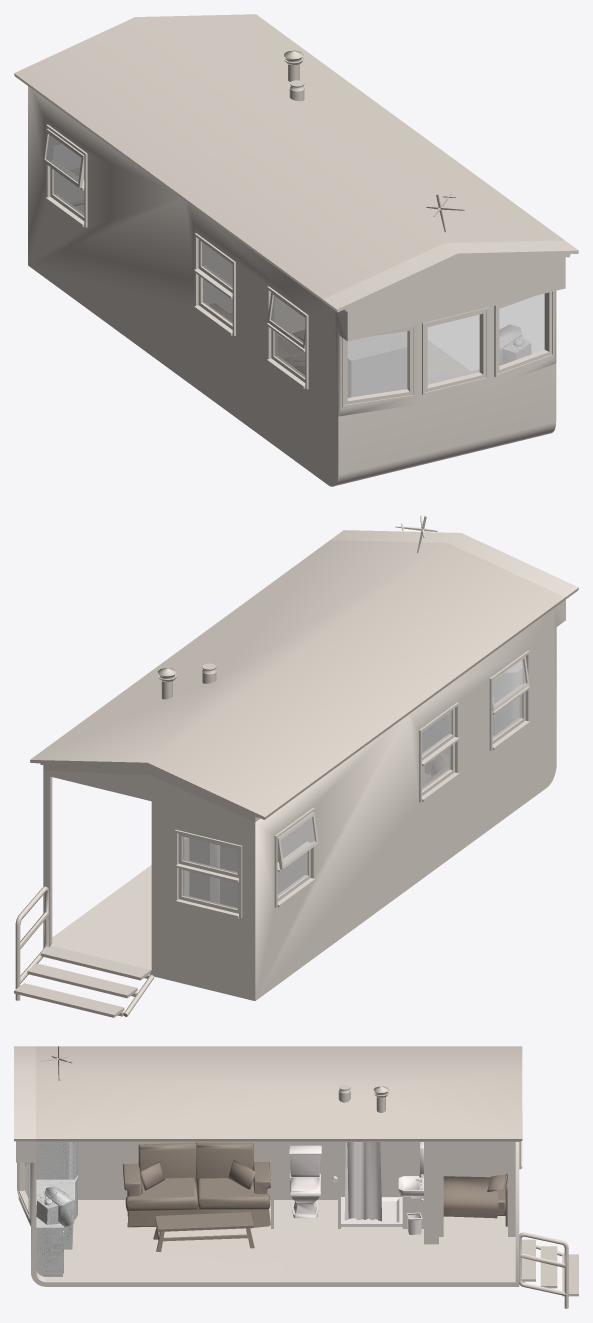
The model's file is Mobile Home.fbx.
3 views of the same model, one above another, from view 1: azimuth 30°, elevation 25°; view 2: azimuth 150°, elevation 25°; view 3: azimuth 270°, elevation 25° (orthographic). The views are drawn at different scales.
Visible parts, largest first — view 1: Clock1, Roof, Fridge1, Window1, Window0, Couch; view 2: Clock1, Roof, Step, Fridge1, Window1, Window0; view 3: Clock1, Roof, Couch, Fridge1, Step, ShowerCurtain, Stool, Toilet, Blanket, Shower, Sink.
Part boxes in pixels (x1,y1,x2,y2): Clock1: (28, 86, 578, 486); Roof: (14, 14, 564, 301); Fridge1: (348, 325, 531, 397); Window1: (42, 129, 84, 188); Window0: (267, 292, 305, 348); Couch: (209, 303, 304, 374); Clock1: (43, 530, 578, 1000); Roof: (30, 515, 565, 822); Step: (14, 886, 154, 1017); Fridge1: (422, 660, 522, 753); Window1: (277, 812, 318, 869); Window0: (492, 656, 529, 711); Clock1: (14, 1046, 522, 1286); Roof: (36, 1046, 522, 1141); Couch: (123, 1142, 270, 1227); Fridge1: (36, 1142, 77, 1276); Step: (519, 1232, 578, 1308); ShowerCurtain: (344, 1142, 381, 1221); Stool: (153, 1212, 254, 1251); Toilet: (289, 1145, 321, 1218); Blanket: (443, 1176, 498, 1218); Shower: (341, 1197, 402, 1226); Sink: (398, 1176, 423, 1201).
Size of the model in its own units: 3.89 by 4.39 by 10.
6 materials, 1 textured.
